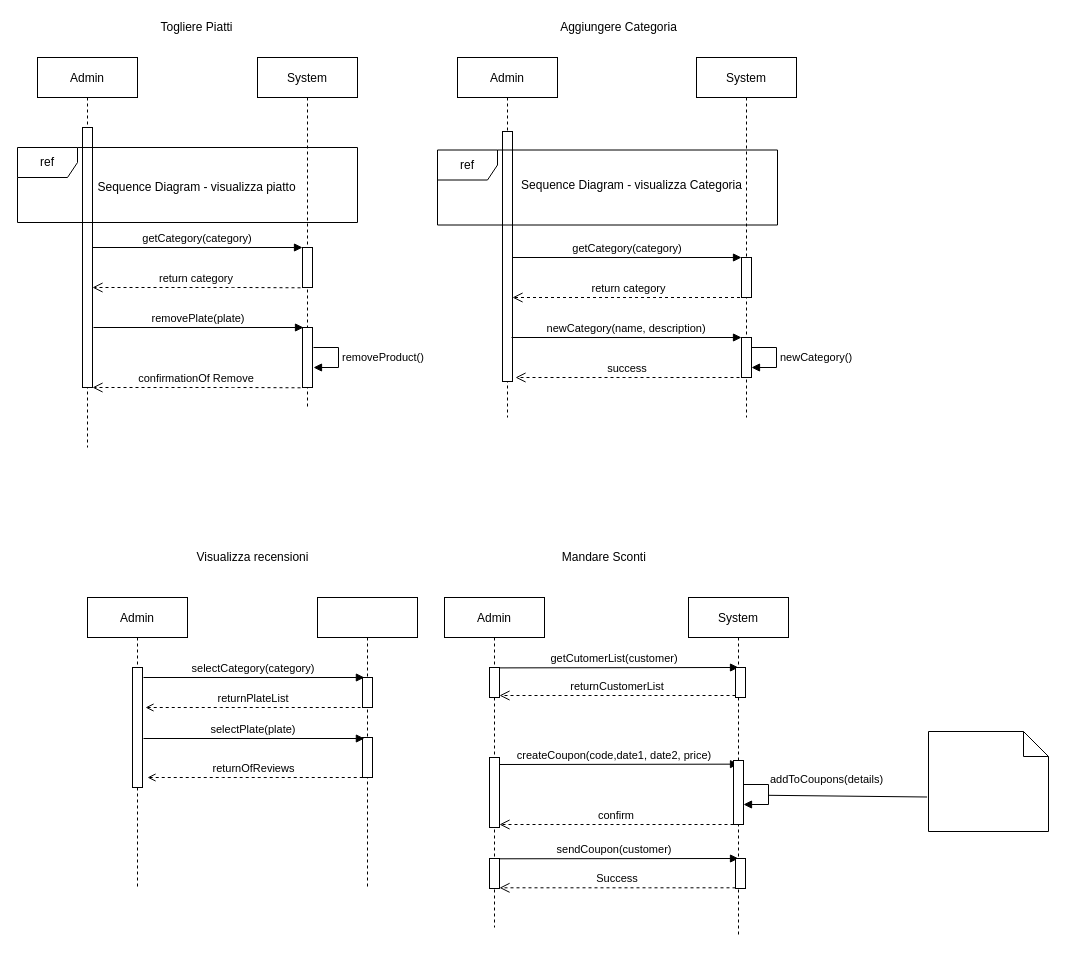
This 1066x955 diagram has some shape labels left out. The centre of each missing label's shape, as x and y in pixels:
"Sistem" belongs at point (367, 742).
"the system must add the new coupon code to the list of Coupons" belongs at point (988, 781).
